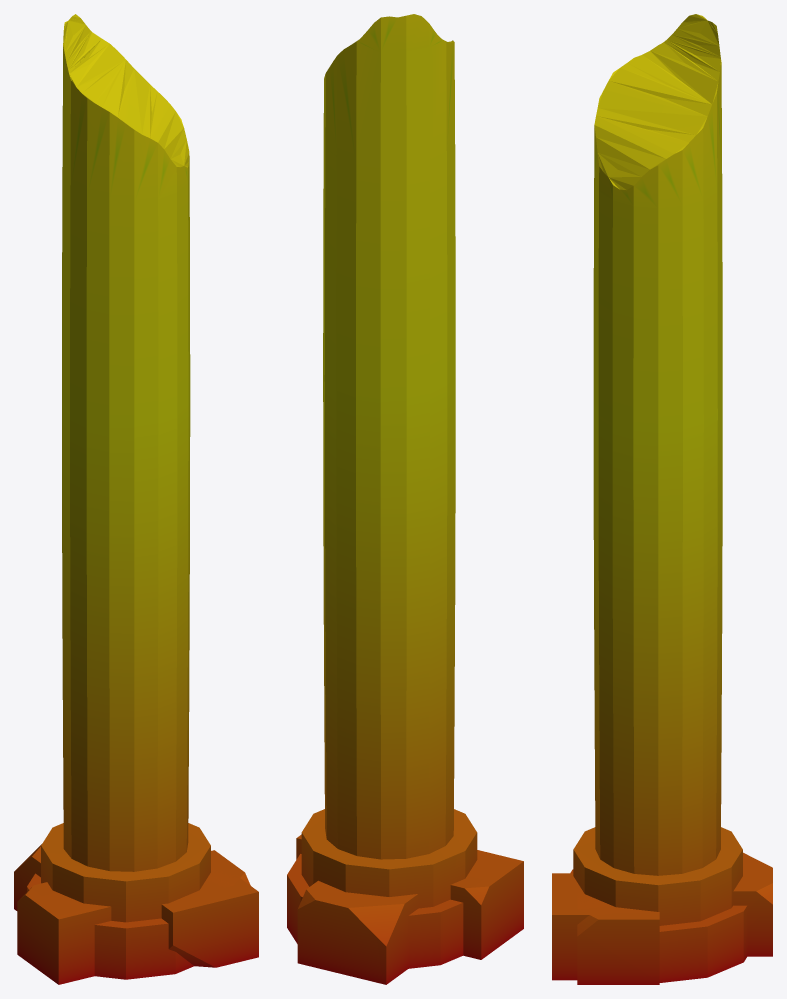
The model's file is column_broken.glb.
The picture shows the model from 3 angles, left to right: view 1: azimuth 30°, elevation 25°; view 2: azimuth 150°, elevation 25°; view 3: azimuth 270°, elevation 25°; orthographic projection. The views are drawn at different scales.
Parts seen in each view (by area): view 1: column_broken; view 2: column_broken; view 3: column_broken.
Boxes of the visible parts, x1=… form: column_broken: x1=14, y1=14, x2=258, y2=984; column_broken: x1=287, y1=14, x2=523, y2=984; column_broken: x1=552, y1=14, x2=772, y2=984.
Size of what is drawn, in the model's own units: 0.7668 by 3.54 by 0.7819.
